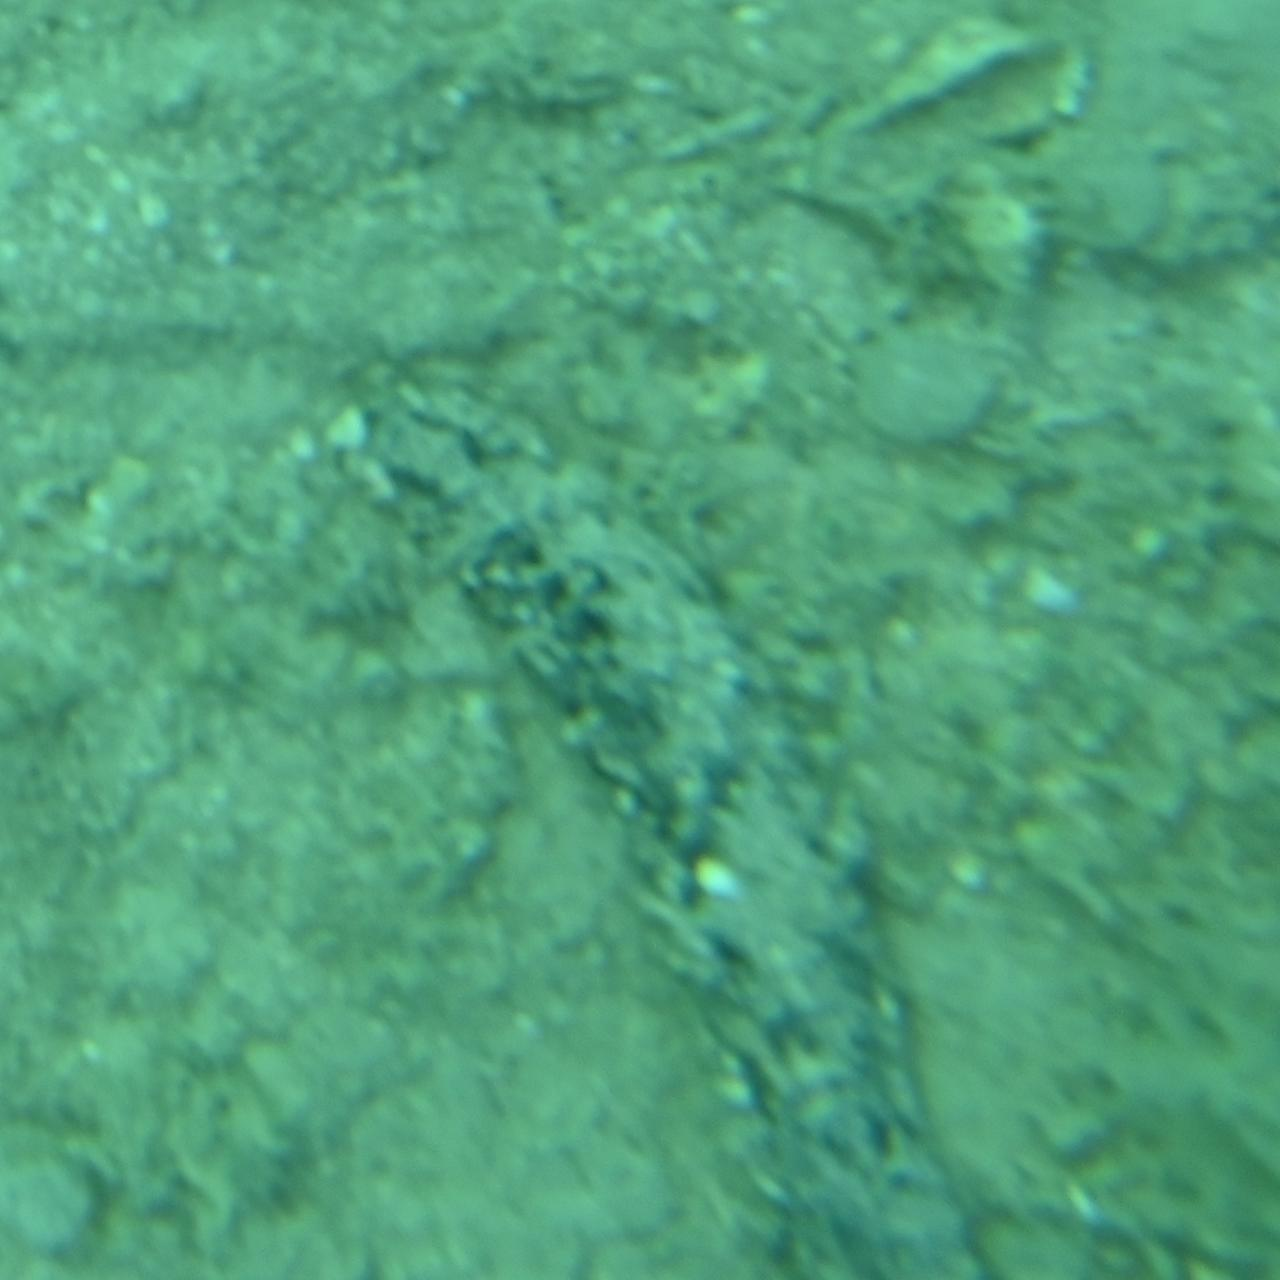Holothuria tubulosa: (345, 345, 935, 1278)
